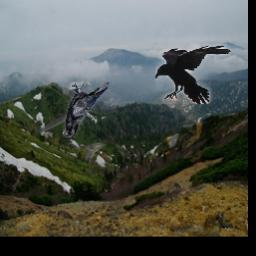Crow: (155, 45, 231, 105), (62, 83, 109, 139)
